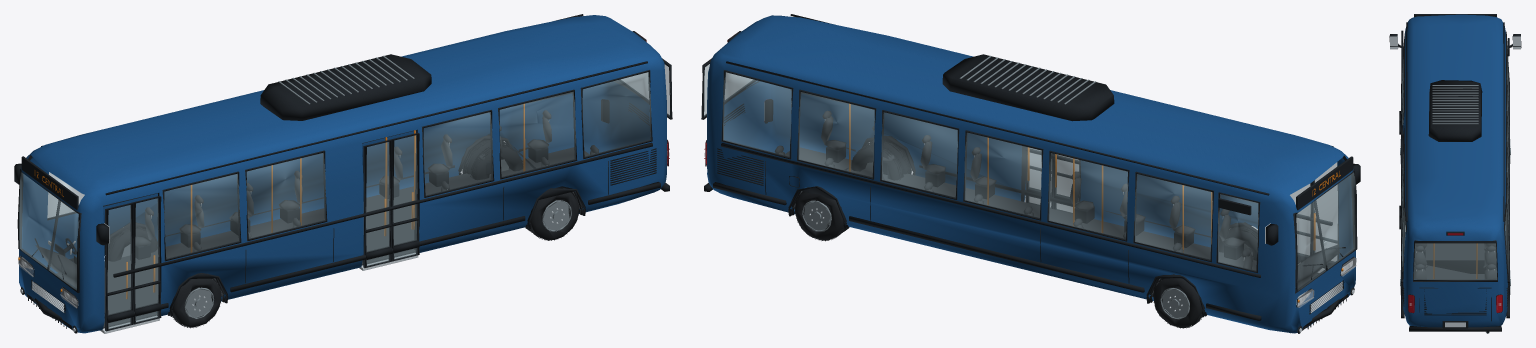
Rendered from city_bus.glb.
3 renders of one model, left to right at view 1: azimuth 30°, elevation 25°; view 2: azimuth 150°, elevation 25°; view 3: azimuth 270°, elevation 25°, orthographic. The views are drawn at different scales.
Parts seen in each view (by area): view 1: City bus hollow 12-station low-floor monocoque, Large bus side passenger glass curved transparent pane 1, Bus passenger row 0 seat pedestal, Bus passenger row 0 contoured backrest, Circumferential truck tire tread, Dished steel commercial wheel, Destination sign: 12 CENTRAL, Air vent surround; view 2: City bus hollow 12-station low-floor monocoque, Large bus side passenger glass curved transparent pane 1, Bus passenger row 0 seat pedestal, Bus passenger row 0 contoured backrest, Circumferential truck tire tread, Dished steel commercial wheel, Destination sign: 12 CENTRAL, Air vent surround; view 3: City bus hollow 12-station low-floor monocoque, Bus passenger row 0 seat pedestal, Large bus side passenger glass curved transparent pane 1, Bus passenger row 0 contoured backrest, Dished steel commercial wheel, Air vent surround, Rear high-mount stop light red lens, Destination sign: 12 CENTRAL.
Boxes of the visible parts, x1,y1,x2,y2 form: City bus hollow 12-station low-floor monocoque: [19, 15, 666, 333]; Large bus side passenger glass curved transparent pane 1: [19, 64, 670, 328]; Bus passenger row 0 seat pedestal: [14, 14, 672, 333]; Bus passenger row 0 contoured backrest: [35, 110, 598, 328]; Circumferential truck tire tread: [104, 134, 583, 328]; Dished steel commercial wheel: [122, 55, 571, 318]; Destination sign: 12 CENTRAL: [18, 103, 525, 298]; Air vent surround: [20, 120, 564, 333]; City bus hollow 12-station low-floor monocoque: [707, 15, 1355, 333]; Large bus side passenger glass curved transparent pane 1: [704, 64, 1355, 290]; Bus passenger row 0 seat pedestal: [701, 14, 1360, 333]; Bus passenger row 0 contoured backrest: [775, 110, 1339, 296]; Circumferential truck tire tread: [791, 135, 1257, 328]; Dished steel commercial wheel: [802, 55, 1253, 319]; Destination sign: 12 CENTRAL: [849, 103, 1343, 302]; Air vent surround: [764, 103, 1354, 332]; City bus hollow 12-station low-floor monocoque: [1402, 14, 1508, 327]; Bus passenger row 0 seat pedestal: [1389, 14, 1521, 333]; Large bus side passenger glass curved transparent pane 1: [1401, 43, 1509, 279]; Bus passenger row 0 contoured backrest: [1413, 240, 1496, 279]; Dished steel commercial wheel: [1400, 85, 1510, 294]; Air vent surround: [1390, 36, 1520, 333]; Rear high-mount stop light red lens: [1408, 233, 1502, 312]; Destination sign: 12 CENTRAL: [1433, 243, 1477, 278].
Size of the model in its own units: 12.09 by 3.43 by 3.07.
Materials: 10 (10 with a texture image).
